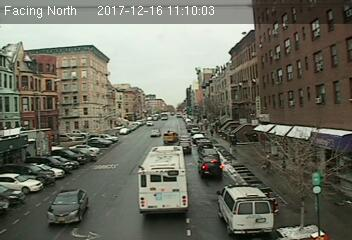bus: (137, 145, 191, 213)
car: (47, 187, 91, 223), (199, 158, 224, 177), (163, 131, 176, 142), (177, 134, 192, 143), (150, 128, 161, 137)
police: (217, 182, 273, 234)
